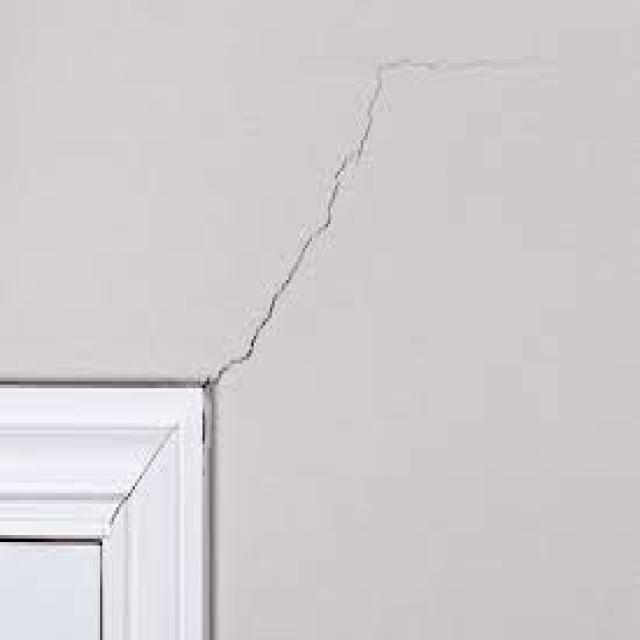Crack: (207, 53, 512, 381)
